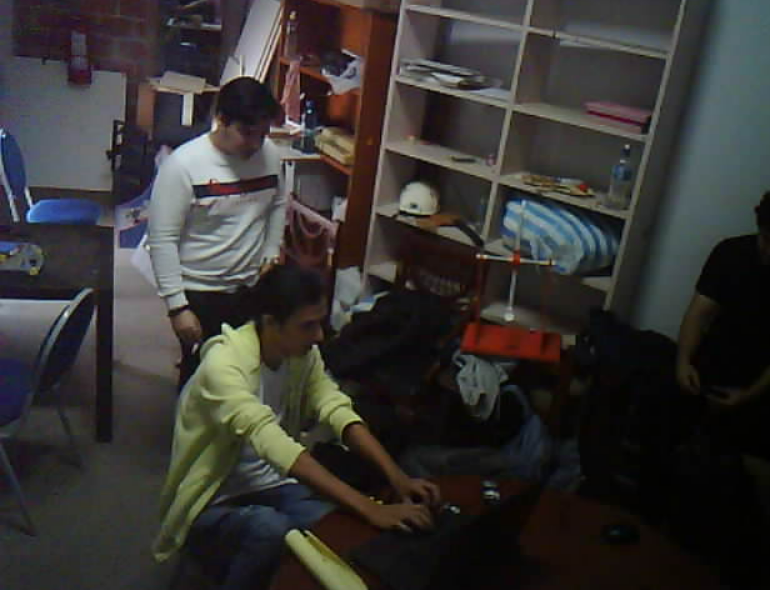person: (158, 292, 459, 590), (127, 62, 277, 407), (660, 134, 770, 533)
